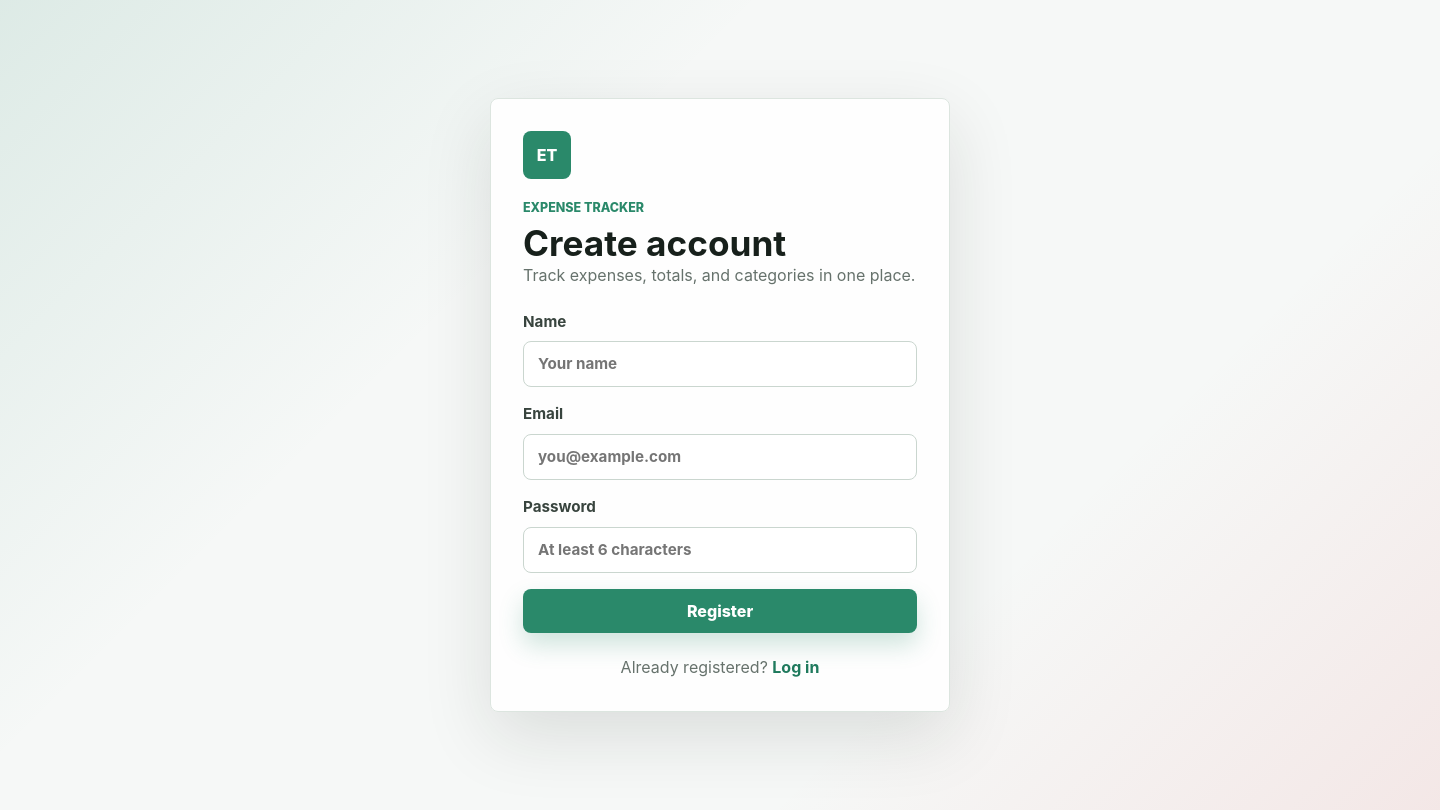
Test: RegisterPage › displays error message when registration fails
Type "Alice" into the field labelled "Name" at point(720, 364), box [523, 341, 917, 387]
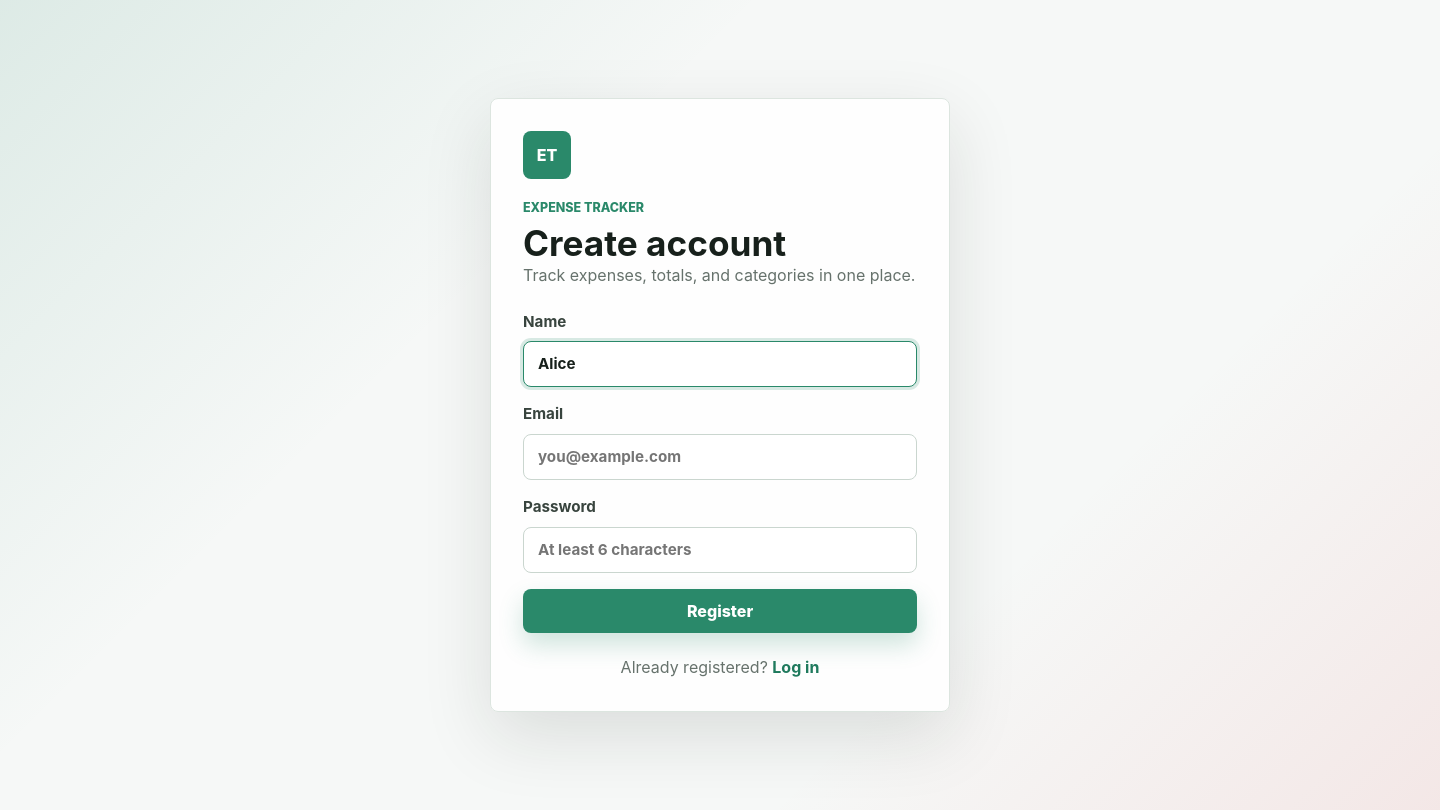
Type "alice@example.com" into the field labelled "Email" at point(720, 457), box [523, 434, 917, 480]
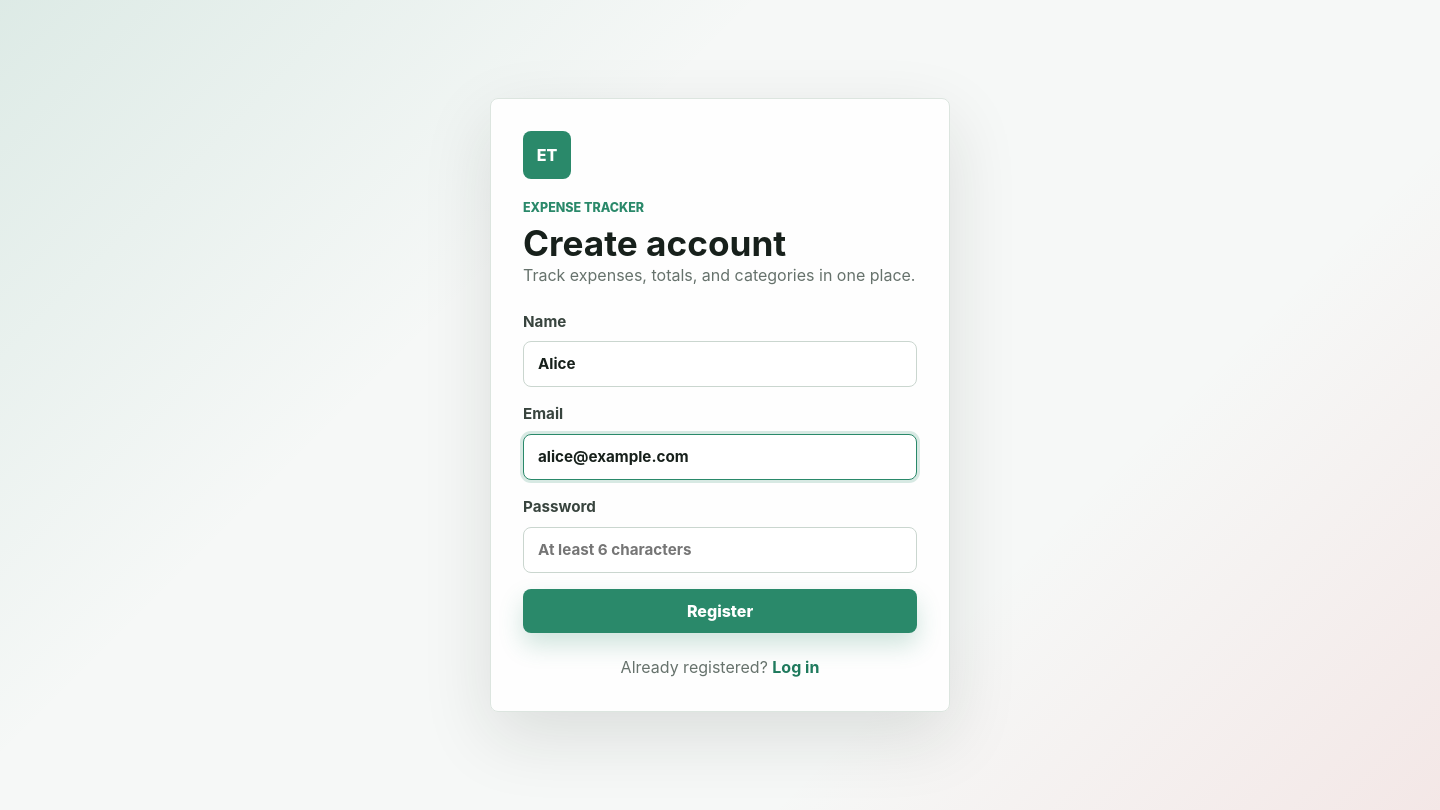
Type "password123" into the password field labelled "Password" at point(720, 550), box [523, 527, 917, 573]
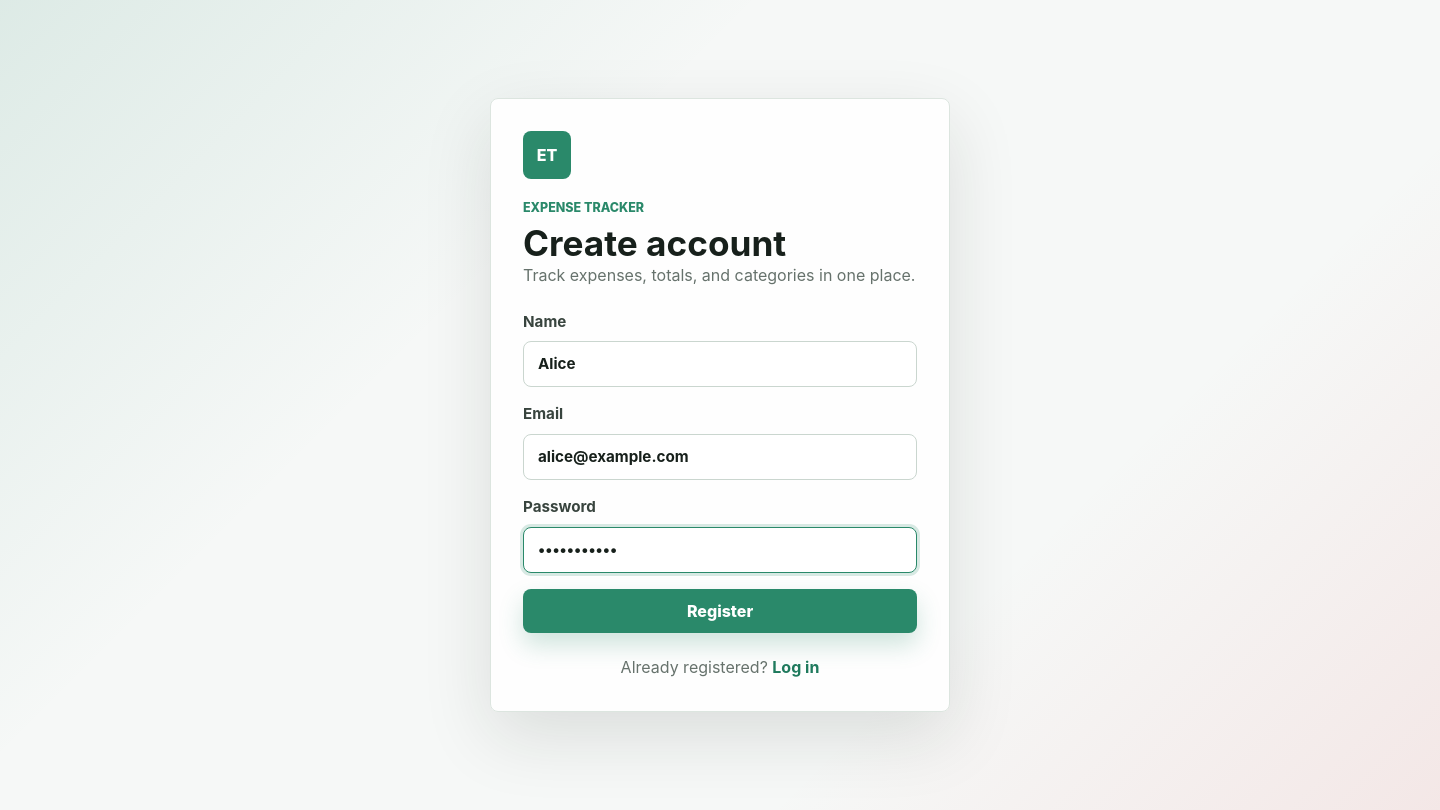
Click the button "Register" at point(720, 611), box [523, 589, 917, 633]
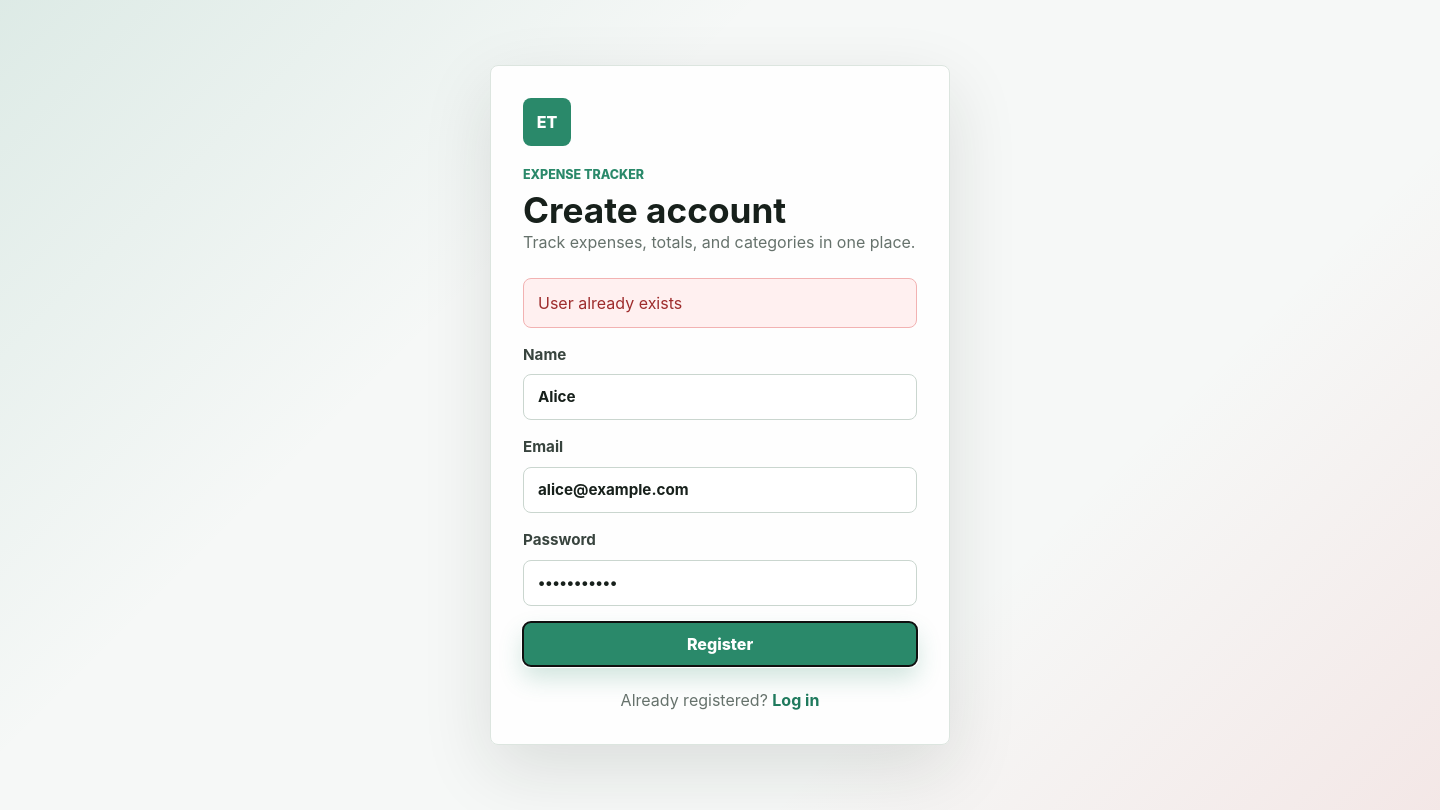
Expected: the text "User already exists" is shown, [523, 278, 917, 328]
